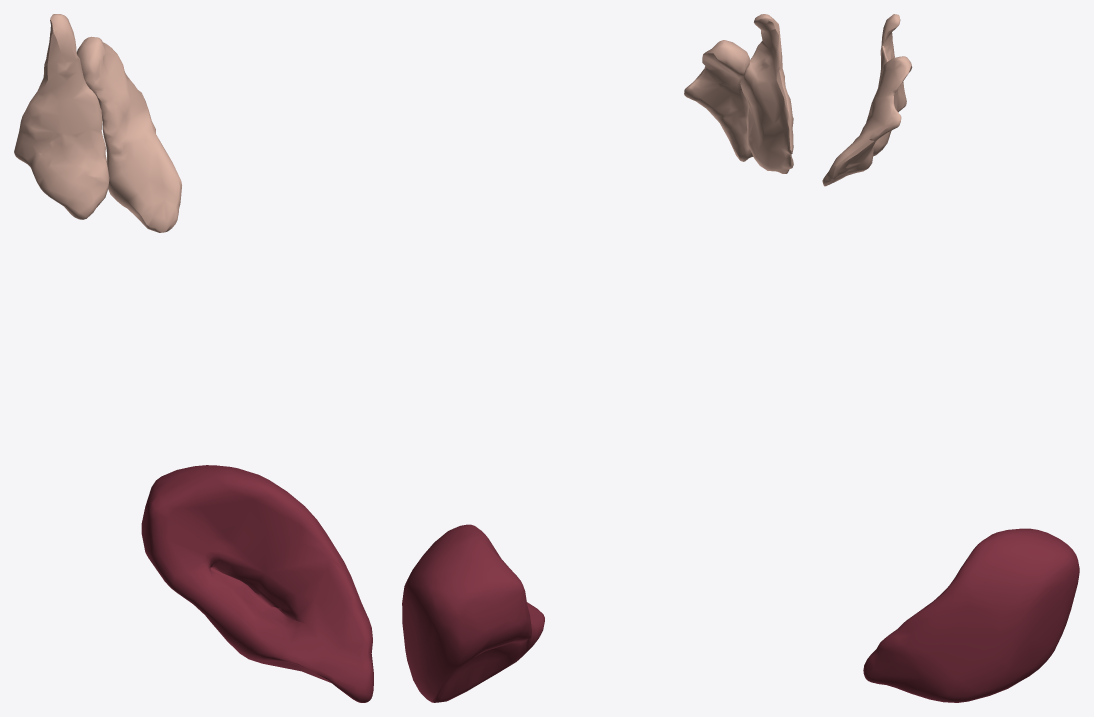
The model's file is linfatico.glb.
The picture shows the model from 3 angles, left to right: view 1: azimuth 30°, elevation 25°; view 2: azimuth 150°, elevation 25°; view 3: azimuth 270°, elevation 25°; orthographic projection. The views are drawn at different scales.
Visible parts, largest first — view 1: FMA7196, FMA71194, FMA71195; view 2: FMA7196, FMA71194, FMA71195; view 3: FMA7196, FMA71195, FMA71194.
Boxes of the visible parts, bbox=[...] form: FMA7196: bbox=[141, 465, 373, 702]; FMA71194: bbox=[14, 14, 109, 219]; FMA71195: bbox=[76, 36, 181, 232]; FMA7196: bbox=[402, 524, 544, 702]; FMA71194: bbox=[740, 14, 793, 173]; FMA71195: bbox=[684, 40, 753, 161]; FMA7196: bbox=[863, 528, 1079, 702]; FMA71195: bbox=[822, 56, 912, 186]; FMA71194: bbox=[873, 14, 906, 156].
Size of the model in its own units: 0.1386 by 0.2781 by 0.1131.
